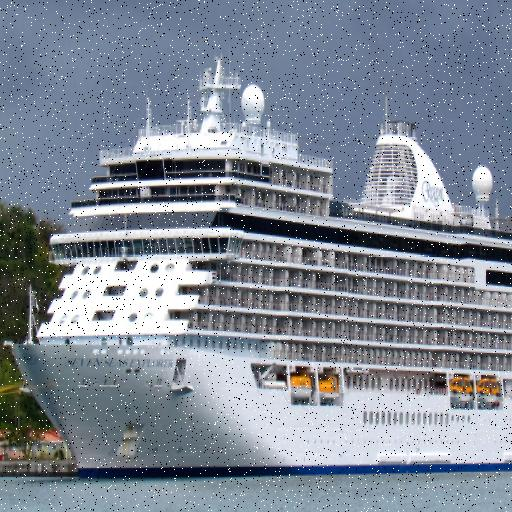cruises: (4, 52, 512, 485)
